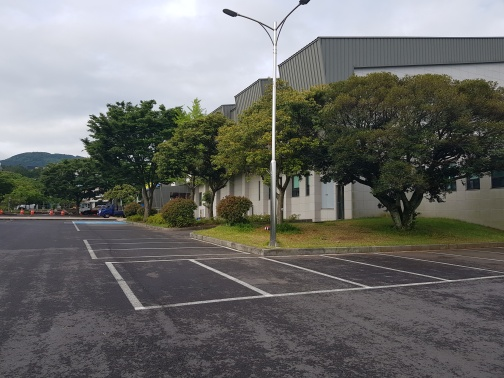Gym: (142, 27, 501, 231)
